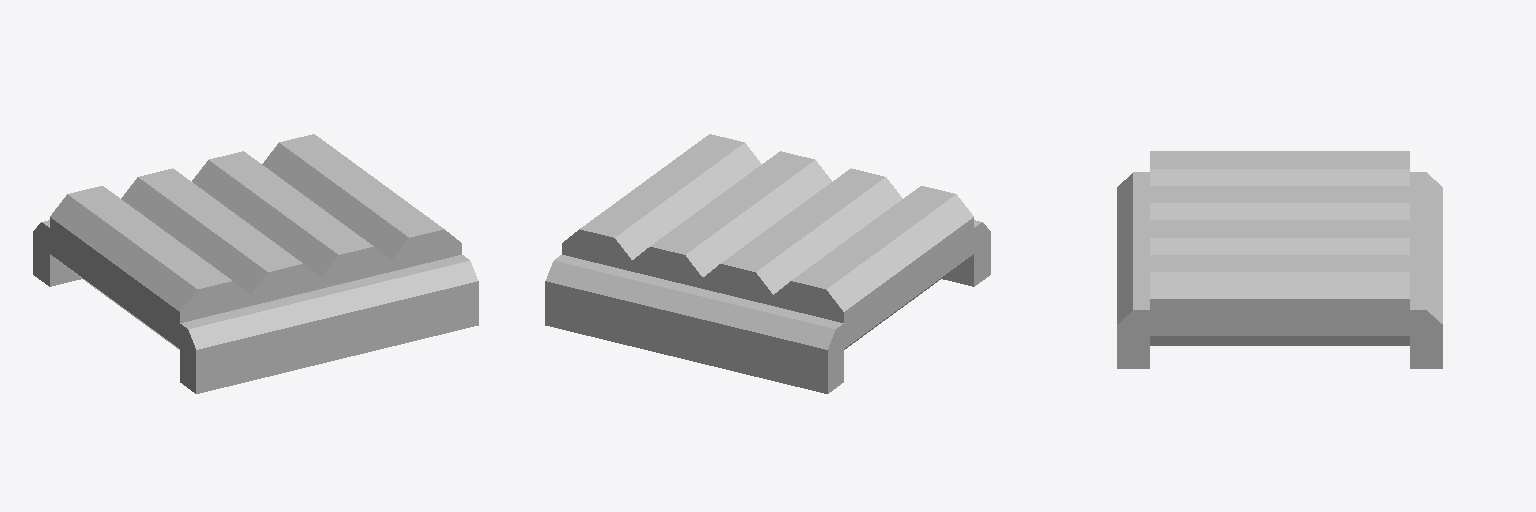
Rendered from conveyor-bars-stripe-side.obj.
3 renders of one model, left to right at view 1: azimuth 30°, elevation 25°; view 2: azimuth 150°, elevation 25°; view 3: azimuth 270°, elevation 25°, orthographic.
Parts seen in each view (by area): view 1: Group; view 2: Group; view 3: Group.
Part boxes in pixels (x1,y1,x2,y2): Group: (33, 134, 478, 393); Group: (545, 134, 990, 393); Group: (1117, 151, 1442, 368).
Size of the model in its own units: 1 by 0.3 by 1.